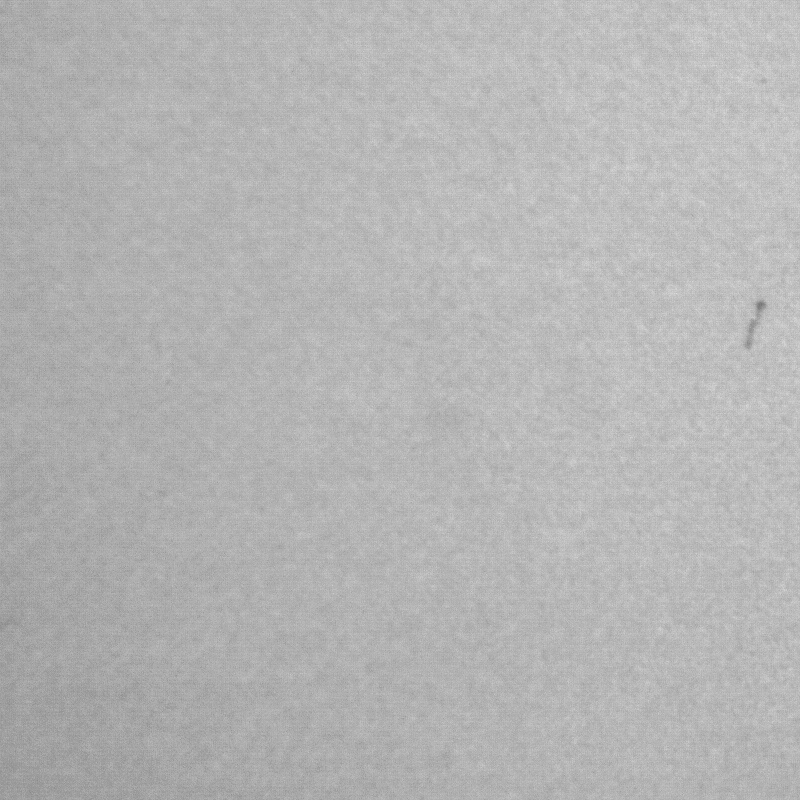defect: (741, 299, 767, 353)
